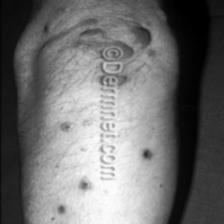Unclassified: (36, 13, 102, 224), (121, 15, 155, 179)
